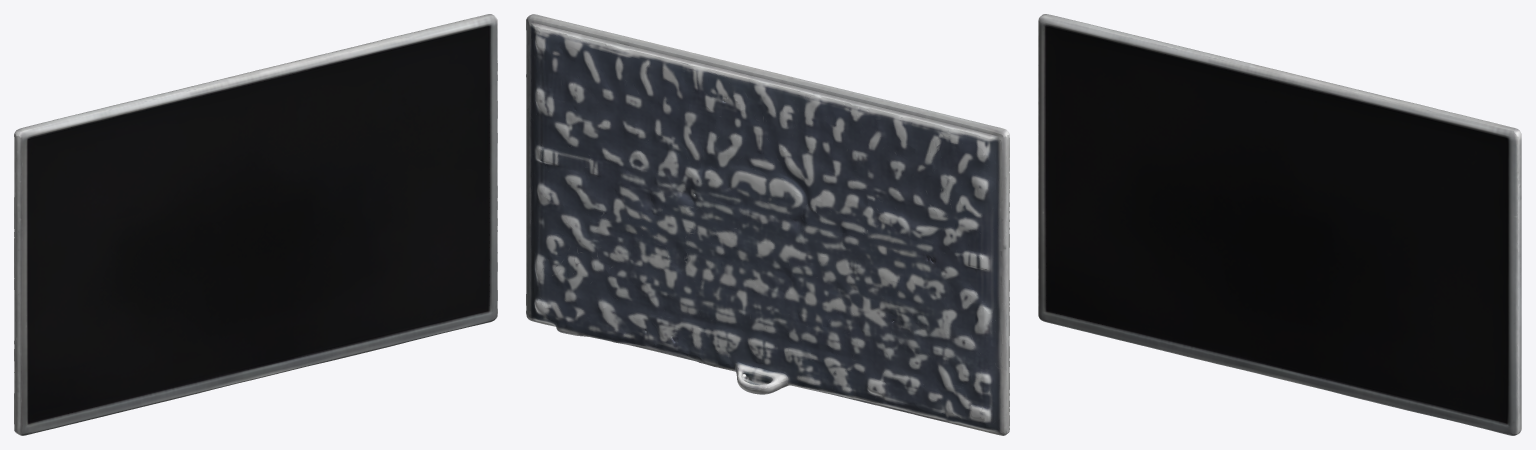
The model's file is item_34220643.glb.
3 views of the same model, side by side, from view 1: azimuth 30°, elevation 25°; view 2: azimuth 150°, elevation 25°; view 3: azimuth 330°, elevation 25° (orthographic).
Visible parts, largest first — view 1: world; view 2: world; view 3: world.
Part boxes in pixels (x1,y1,x2,y2): world: (14, 14, 497, 435); world: (526, 14, 1009, 435); world: (1038, 14, 1521, 435).
Size of the model in its own units: 1.23 by 0.7608 by 0.0907.
Materials: 1 (1 with a texture image).
